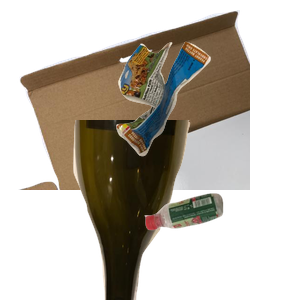cardboard: (16, 10, 256, 190)
glass: (71, 120, 254, 300)
plastic: (142, 191, 300, 300)
trash: (114, 39, 300, 188)
